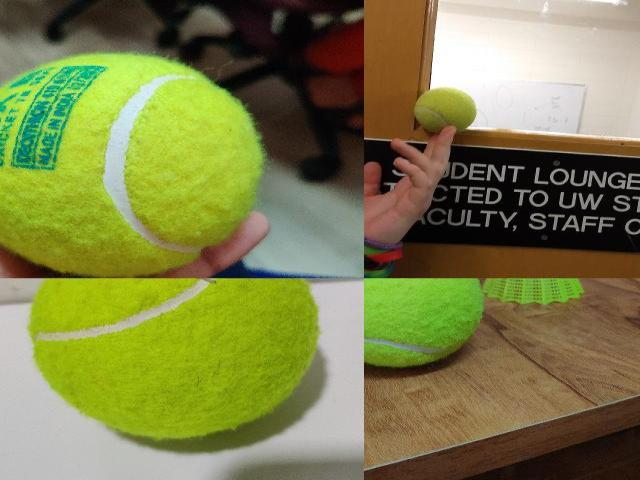tennis-ball: (0, 54, 262, 278), (28, 278, 320, 441), (364, 278, 482, 366), (413, 86, 477, 134)
